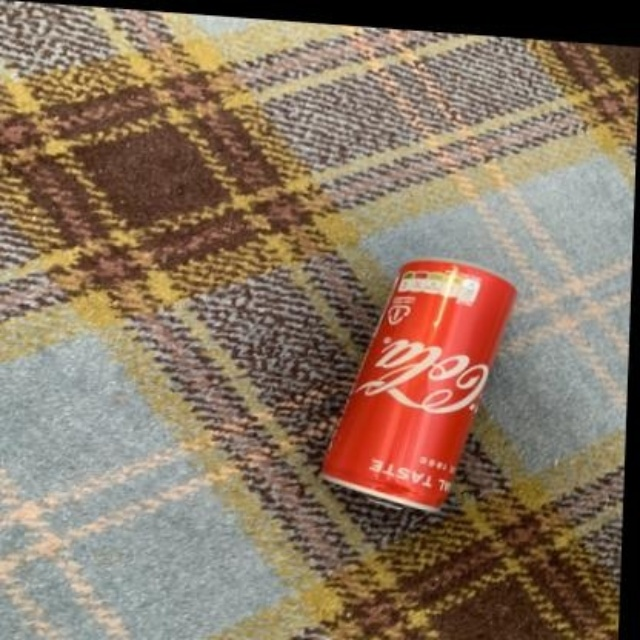trash: (323, 260, 515, 509)
